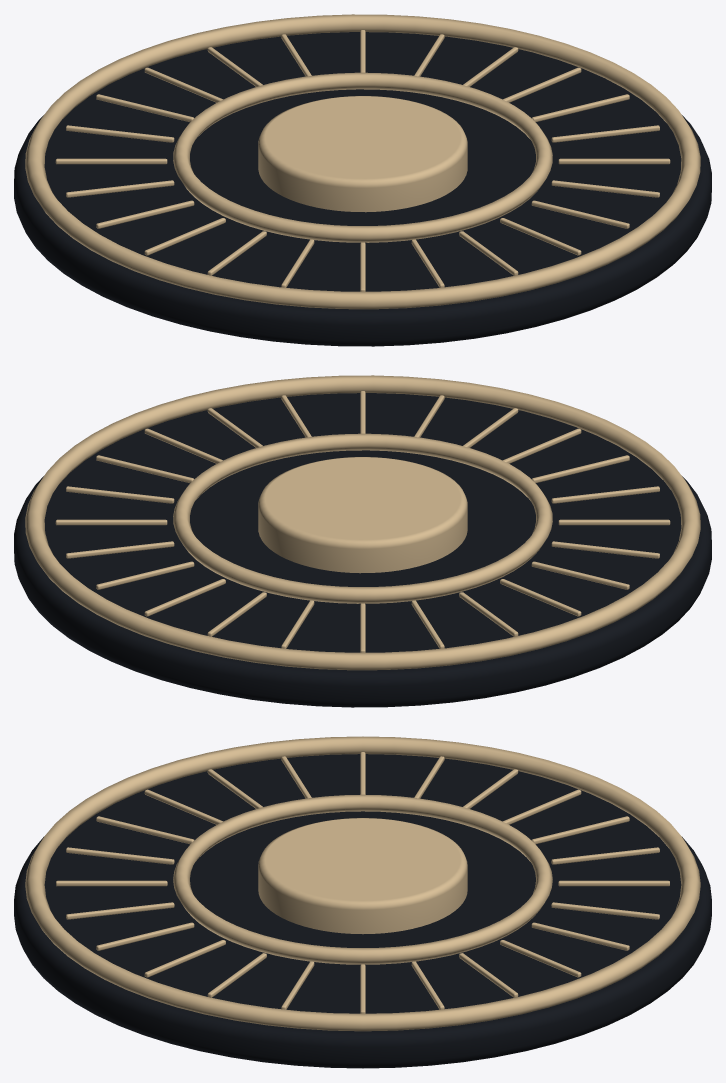
The model's file is roulette-element.glb.
3 views of the same model, one above another, from view 1: azimuth 30°, elevation 25°; view 2: azimuth 150°, elevation 25°; view 3: azimuth 270°, elevation 25° (orthographic).
Parts seen in each view (by area): view 1: RouletteBase, RouletteRim, RouletteHub, RouletteInner, RouletteDivider.010, RouletteDivider.022, RouletteDivider.009, RouletteDivider.011, RouletteDivider.021, RouletteDivider.023, RouletteDivider.012, RouletteDivider.020 (+6 smaller); view 2: RouletteBase, RouletteRim, RouletteHub, RouletteInner, RouletteDivider.002, RouletteDivider.014, RouletteDivider.001, RouletteDivider.003, RouletteDivider.013, RouletteDivider.015, RouletteDivider.004, RouletteDivider.012 (+6 smaller); view 3: RouletteBase, RouletteRim, RouletteHub, RouletteInner, RouletteDivider.006, RouletteDivider.018, RouletteDivider.005, RouletteDivider.007, RouletteDivider.017, RouletteDivider.019, RouletteDivider.004, RouletteDivider.020 (+6 smaller).
Part boxes in pixels (x1,y1,x2,y2): RouletteBase: [14, 32, 711, 346]; RouletteRim: [25, 14, 700, 309]; RouletteHub: [258, 96, 467, 212]; RouletteInner: [173, 72, 552, 242]; RouletteDivider.010: [55, 158, 167, 164]; RouletteDivider.022: [558, 158, 670, 164]; RouletteDivider.009: [66, 125, 174, 142]; RouletteDivider.011: [66, 180, 174, 197]; RouletteDivider.021: [551, 180, 659, 197]; RouletteDivider.023: [551, 125, 659, 142]; RouletteDivider.012: [96, 200, 194, 228]; RouletteDivider.020: [531, 200, 629, 228]; RouletteBase: [14, 393, 711, 707]; RouletteRim: [25, 375, 700, 670]; RouletteHub: [258, 457, 467, 573]; RouletteInner: [173, 433, 552, 603]; RouletteDivider.002: [55, 519, 167, 525]; RouletteDivider.014: [558, 519, 670, 525]; RouletteDivider.001: [66, 486, 174, 503]; RouletteDivider.003: [66, 541, 174, 558]; RouletteDivider.013: [551, 541, 659, 558]; RouletteDivider.015: [551, 486, 659, 503]; RouletteDivider.004: [96, 561, 194, 589]; RouletteDivider.012: [531, 561, 629, 589]; RouletteBase: [14, 754, 711, 1068]; RouletteRim: [25, 736, 700, 1031]; RouletteHub: [258, 818, 467, 934]; RouletteInner: [173, 794, 552, 964]; RouletteDivider.006: [558, 880, 669, 886]; RouletteDivider.018: [56, 880, 167, 886]; RouletteDivider.005: [551, 902, 659, 919]; RouletteDivider.007: [551, 847, 659, 864]; RouletteDivider.017: [66, 847, 174, 864]; RouletteDivider.019: [66, 902, 174, 919]; RouletteDivider.004: [531, 922, 629, 950]; RouletteDivider.020: [96, 922, 194, 950].
Bounding box in the file's own units: 2.5 × 0.26 × 2.5.
